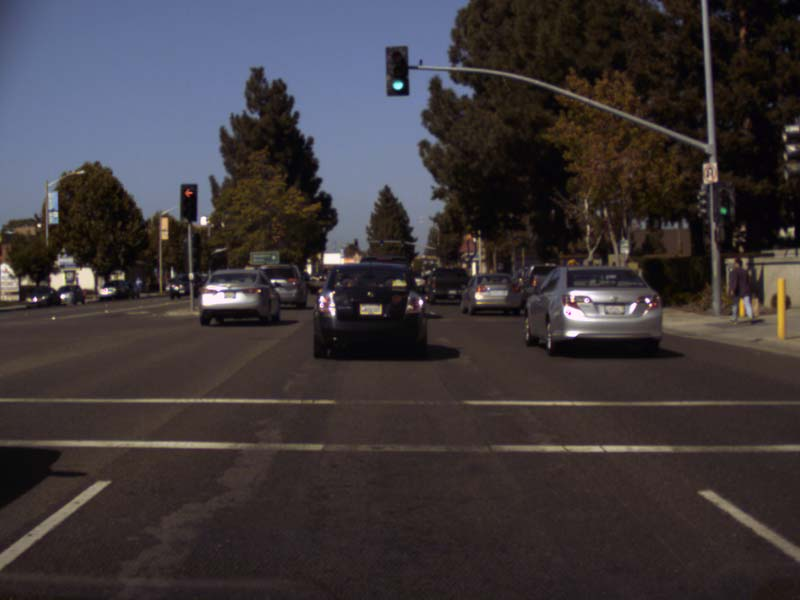Green: (386, 46, 406, 94), (718, 189, 731, 215)
Red: (182, 183, 196, 220)
